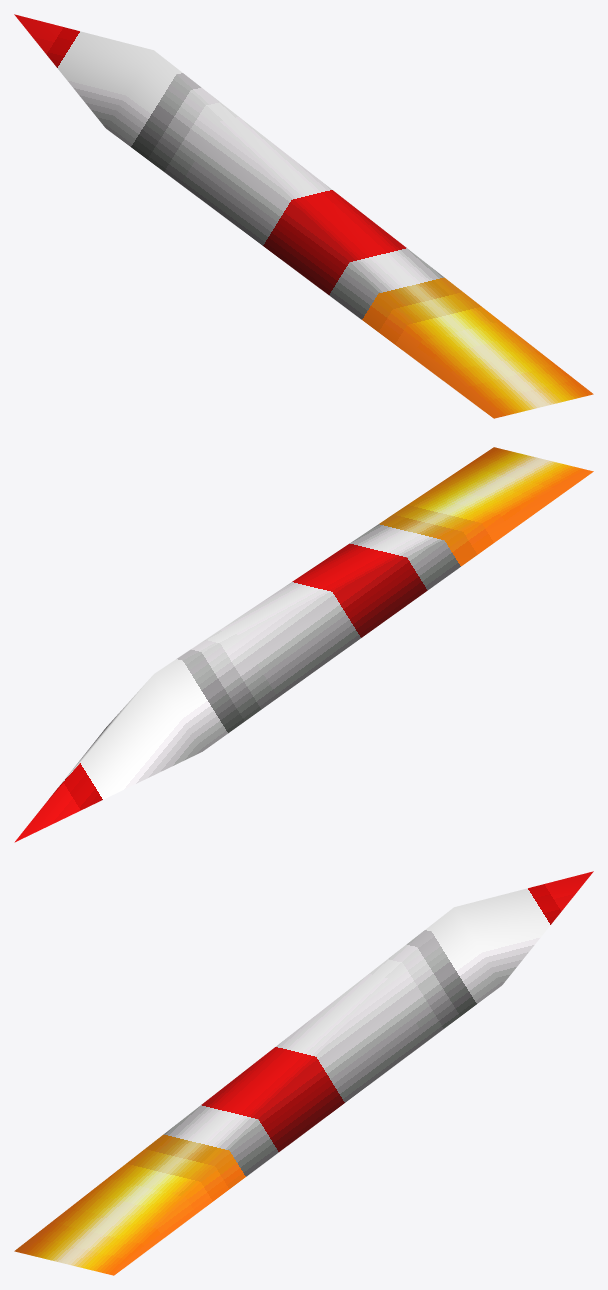
The picture shows the model from 3 angles, top to bottom: view 1: azimuth 30°, elevation 25°; view 2: azimuth 150°, elevation 25°; view 3: azimuth 330°, elevation 25°; orthographic projection.
Visible parts, largest first — view 1: 4fcfa3e9; view 2: 4fcfa3e9; view 3: 4fcfa3e9.
Part boxes in pixels (left/top/right/bottom): 4fcfa3e9: left=14, top=14, right=593, bottom=418; 4fcfa3e9: left=14, top=447, right=593, bottom=842; 4fcfa3e9: left=14, top=871, right=593, bottom=1275.
Bounding box in the file's own units: 0.7553 × 0.5107 × 6.93.
Materials: 1 (1 with a texture image).
